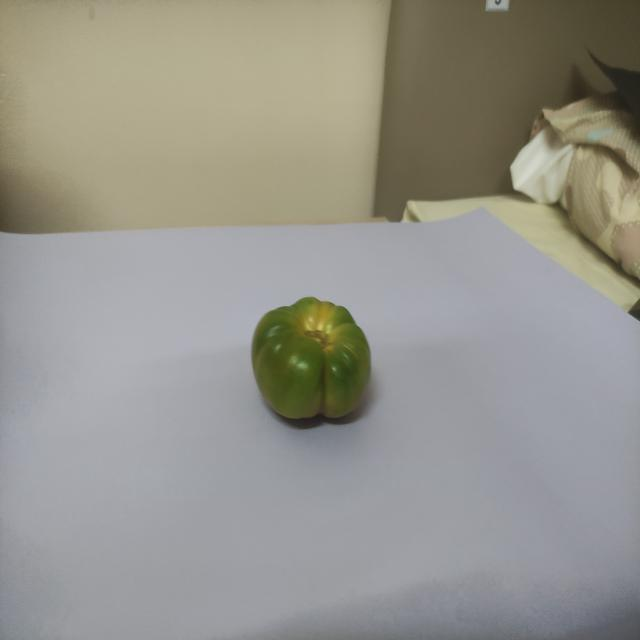yesil: (232, 264, 388, 438)
